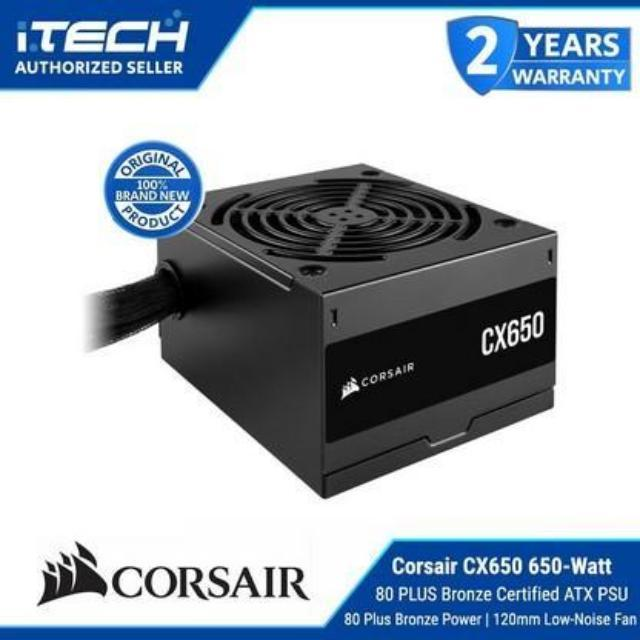PSU: (148, 156, 566, 504)
